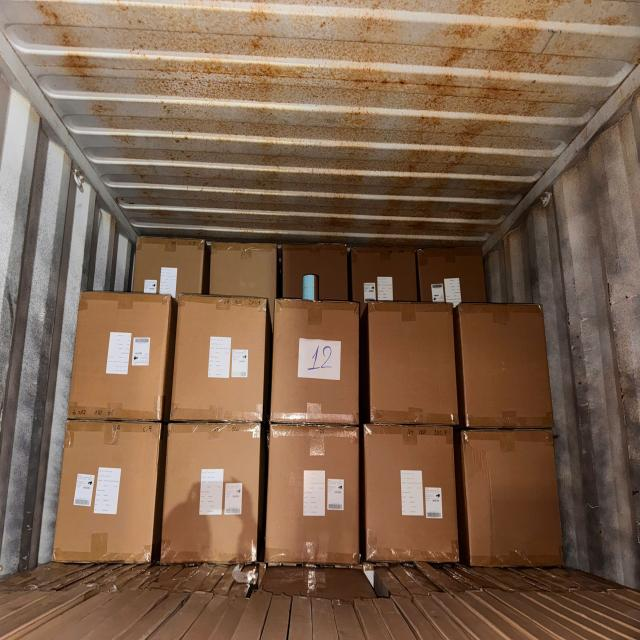Carton: (51, 421, 155, 565), (164, 419, 262, 564), (266, 423, 361, 567), (465, 426, 560, 566), (367, 424, 459, 564), (74, 296, 170, 422), (174, 299, 266, 424), (463, 303, 551, 429), (271, 302, 360, 426), (366, 303, 454, 427)
